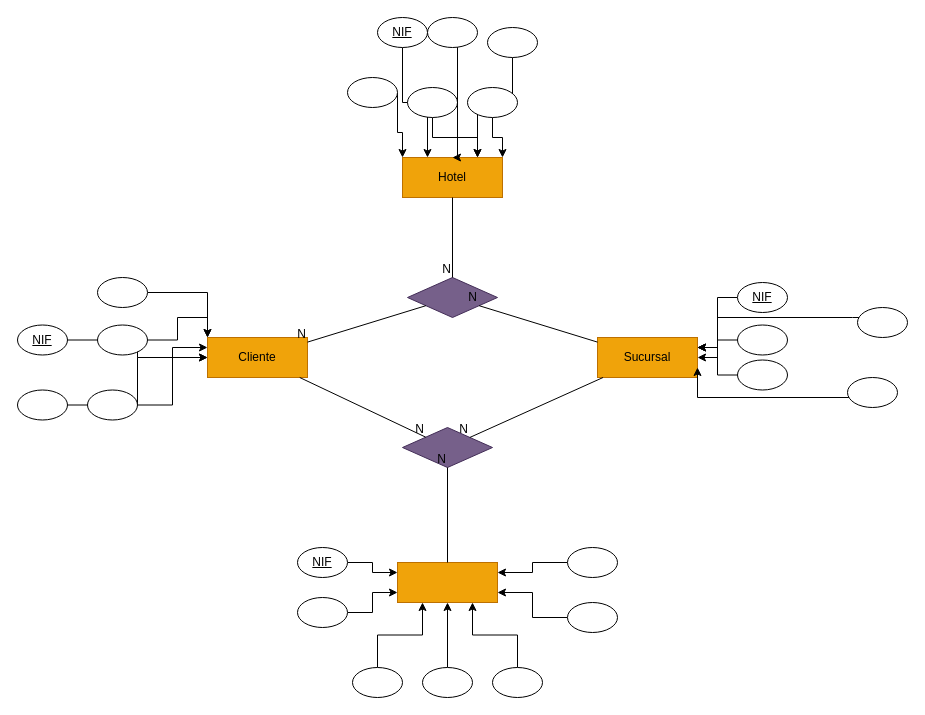
Some shapes in this 925 by 715 pixel diagram are drawn without their labels. Each missing label, with the centre of its shape:
"Guarda" goes at (x=447, y=447).
"Reserva" goes at (x=452, y=297).
"Vuelo" goes at (x=447, y=582).
